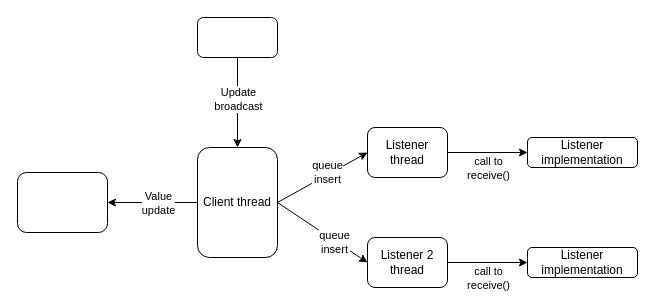
Some shapes in this 655 by 308 pixel diagram are drawn without their labels. Here are the shapes that lost their labels. From the top down, the centre of each, then its label:
At (x=237, y=37): "Server".
At (x=62, y=202): "User thread".
